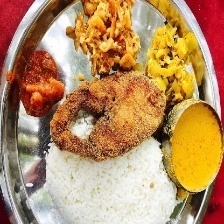sabzi: (145, 20, 206, 99)
